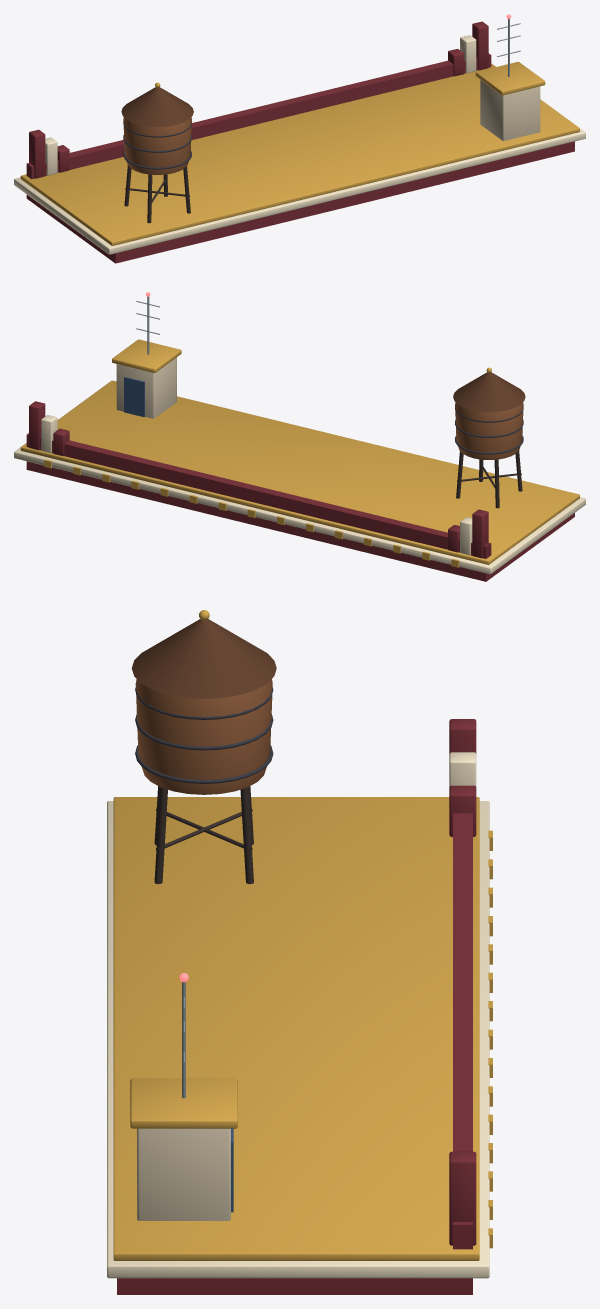
The model's file is Roof.fbx.
3 renders of one model, top to bottom at view 1: azimuth 30°, elevation 25°; view 2: azimuth 150°, elevation 25°; view 3: azimuth 270°, elevation 25°, orthographic. The views are drawn at different scales.
Parts seen in each view (by area): view 1: Roof.001; view 2: Roof.001; view 3: Roof.001.
Boxes of the visible parts, x1,y1,x2,y2 form: Roof.001: (14, 14, 585, 263); Roof.001: (14, 292, 585, 581); Roof.001: (107, 610, 492, 1294).
Size of the model in its own units: 16.4 by 4.9 by 5.75.
